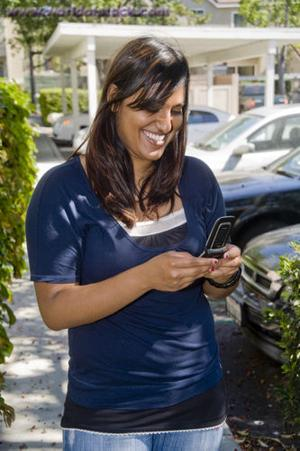person: (26, 37, 242, 448)
